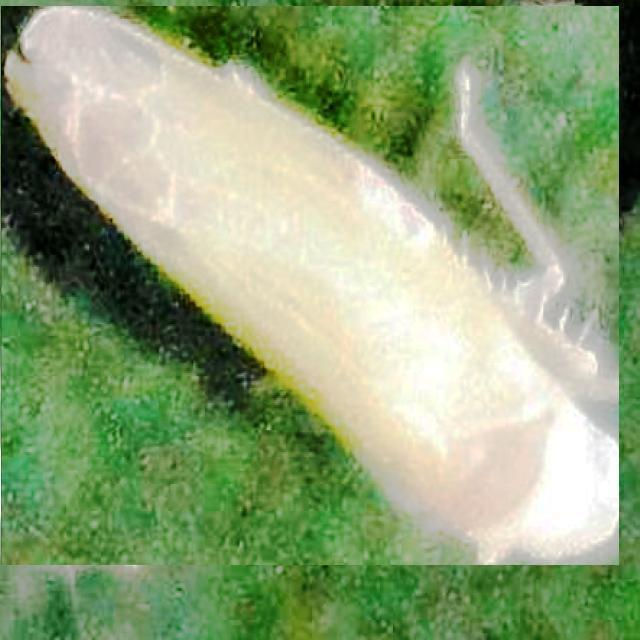green-leafhopper: (2, 7, 619, 565)
